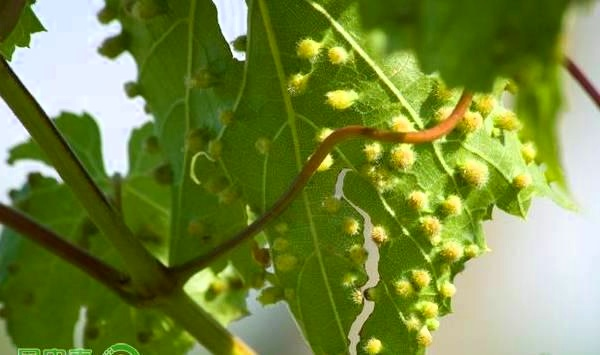Gall_Mite: (299, 81, 535, 327), (142, 8, 370, 257), (19, 109, 254, 336)
